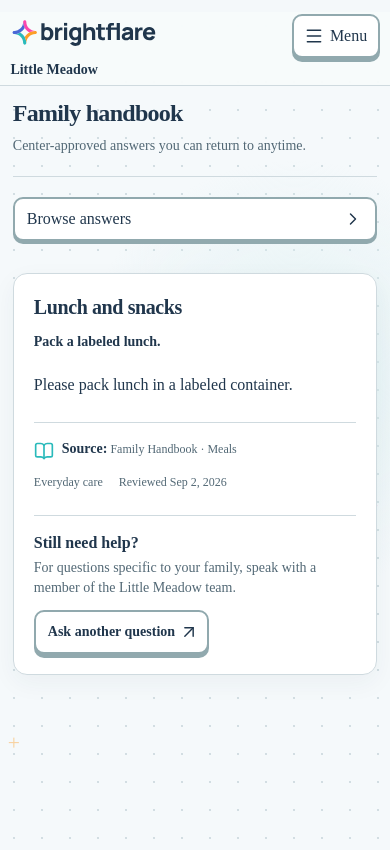
it: HandbookBrowser › keeps the selected article visible while the mobile browse list is collapsed
Expected: the heading "Lunch and snacks" is shown, [34, 296, 182, 318]
Step 1. Click the button "Browse answers" → [79, 218], box [13, 197, 377, 241]
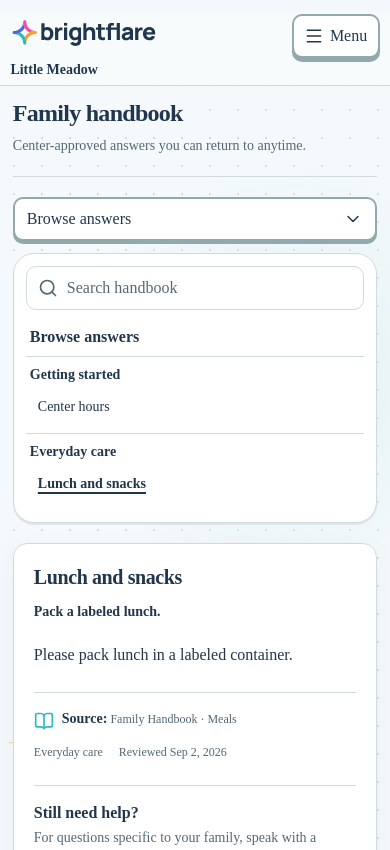
Now the button "Browse answers" is expanded, box [13, 197, 377, 241]
